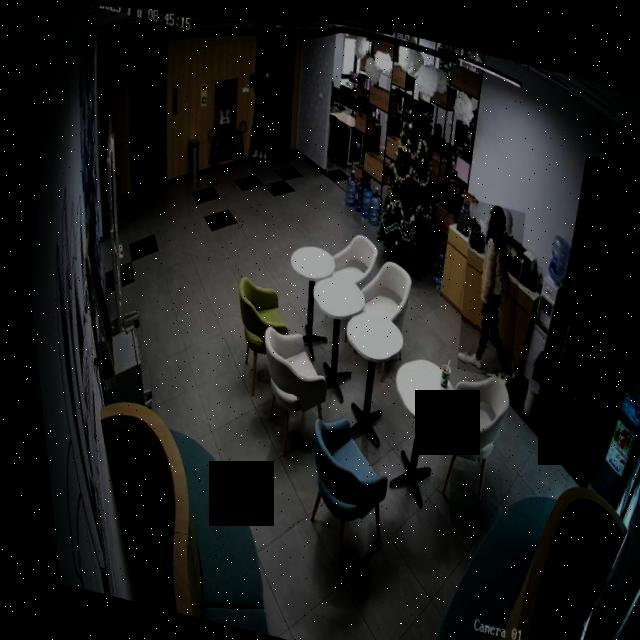person: (436, 193, 535, 378), (234, 55, 285, 162)
